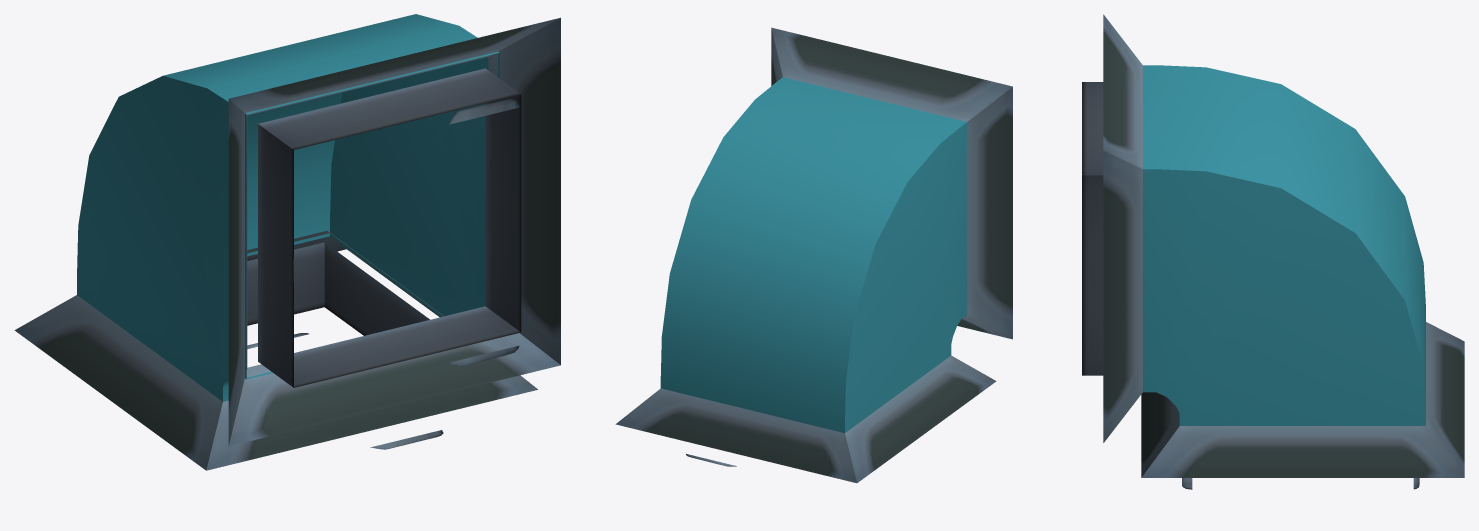
File: obj_interactive_pipebend_lod1.fbx
3 views of the same model, side by side, from view 1: azimuth 30°, elevation 25°; view 2: azimuth 150°, elevation 25°; view 3: azimuth 270°, elevation 25° (orthographic). The views are drawn at different scales.
Parts seen in each view (by area): view 1: obj_interactive_pipebend_lod1; view 2: obj_interactive_pipebend_lod1; view 3: obj_interactive_pipebend_lod1.
Boxes of the visible parts, x1,y1,x2,y2 form: obj_interactive_pipebend_lod1: (14,14,560,470); obj_interactive_pipebend_lod1: (615,27,1012,483); obj_interactive_pipebend_lod1: (1082,14,1464,489).
Size of the model in its own units: 2 by 2.5 by 2.5.
